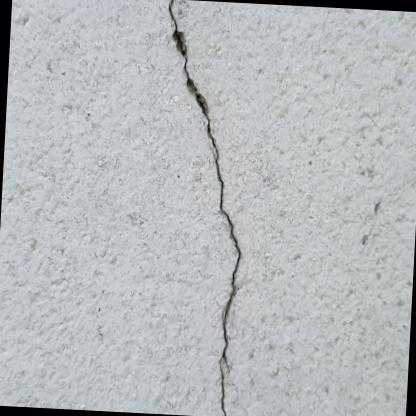crack: (166, 0, 241, 416)
